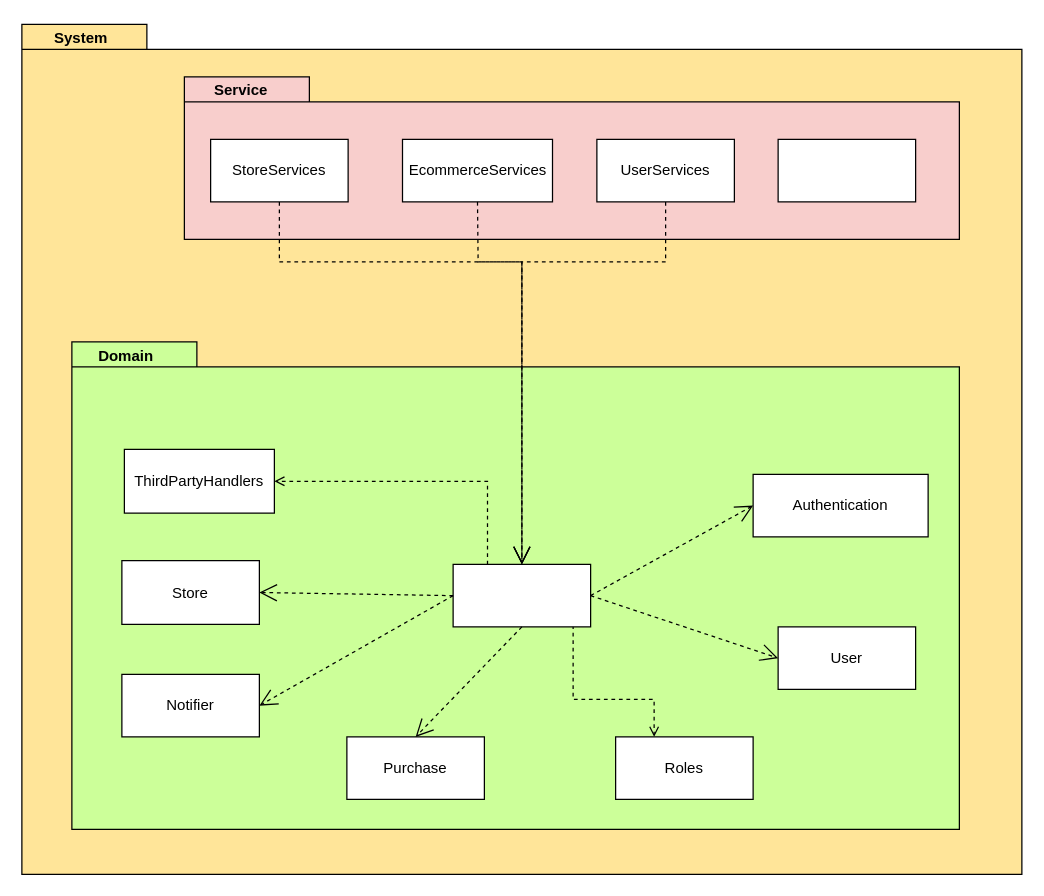
The diagram is 1044 pixels wide and 896 high, and some of its shapes have lost their labels. Each missing label, with the centre of its shape:
MarketFacade: pixel 521 595
ThirdPartyServices: pixel 846 170
